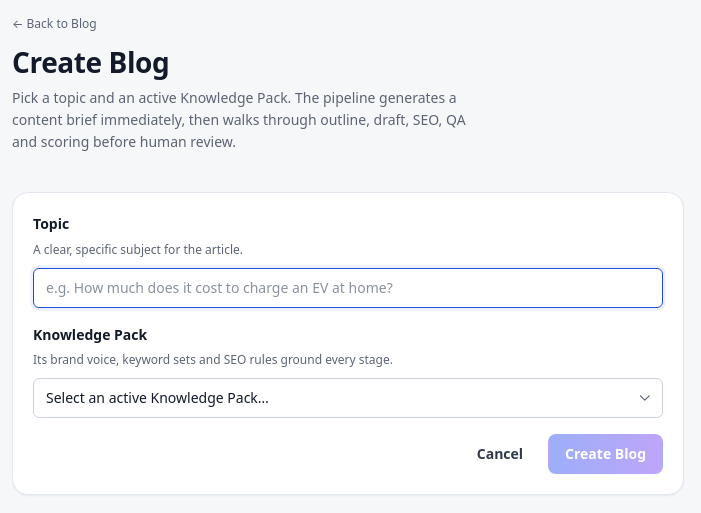
Test: CreateBlogForm › keeps submit disabled until both topic and pack are chosen
This screenshot has width=701, height=513.
Expected: the button "Create Blog" is disabled, [548,434,663,474]
Type "topic" into the field labelled "Topic".
click(348, 288); type("topic")  # box [33,268,663,308]
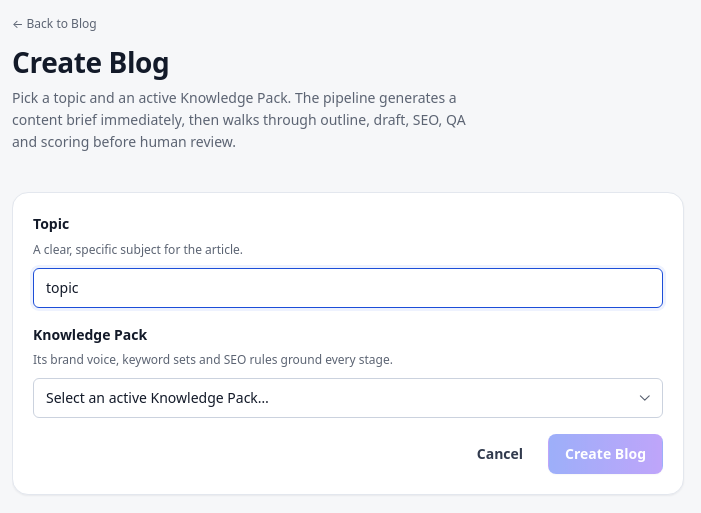
Expected: the button "Create Blog" is disabled, [548,434,663,474]
Select "EV Pack (v2)" in the dropdown labelled "Knowledge Pack" at (348,398), box [33,378,663,418]
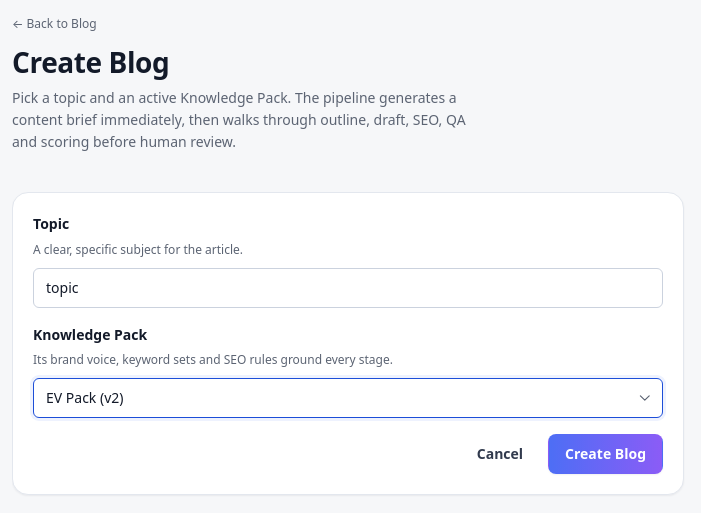
Expected: the button "Create Blog" is enabled, [548,434,663,474]
